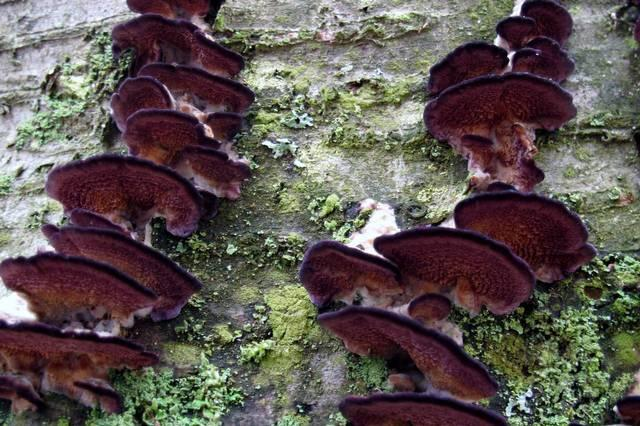Non-edible Mushroom: (320, 1, 609, 426), (3, 0, 248, 426)
